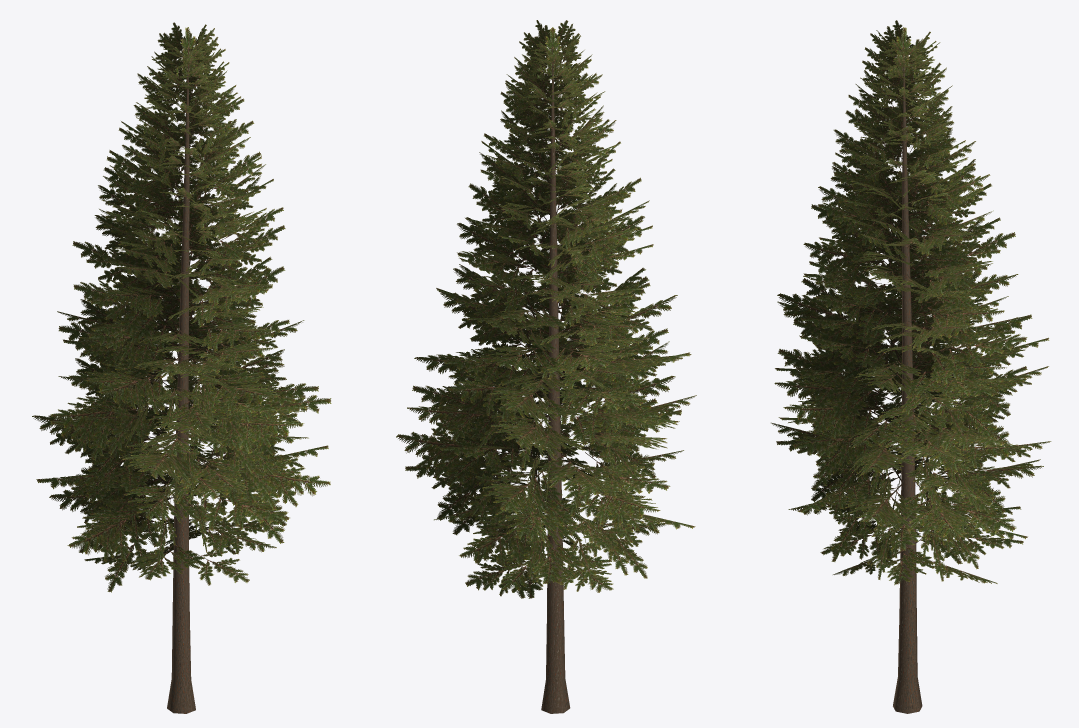
The model's file is fir_medium_b_lod2.gltf.
The picture shows the model from 3 angles, left to right: view 1: azimuth 30°, elevation 25°; view 2: azimuth 150°, elevation 25°; view 3: azimuth 270°, elevation 25°; orthographic projection.
Visible parts, largest first — view 1: fir_medium_b_LOD2; view 2: fir_medium_b_LOD2; view 3: fir_medium_b_LOD2.
Part boxes in pixels (x1=…): fir_medium_b_LOD2: x1=32, y1=22, x2=331, y2=713; fir_medium_b_LOD2: x1=396, y1=20, x2=696, y2=713; fir_medium_b_LOD2: x1=771, y1=20, x2=1051, y2=713.
Size of the model in its own units: 10.37 by 23.52 by 9.88.
Materials: 2 (2 with a texture image).
